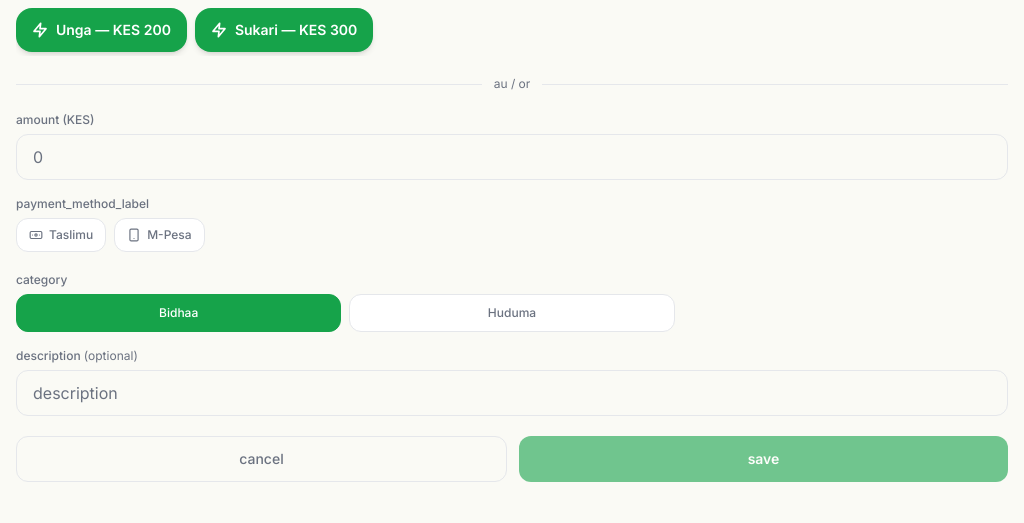
RecordSale › shows amount error for invalid input
Type "-50" into the number field with placeholder "0" at (512, 157), box [16,134,1008,180]
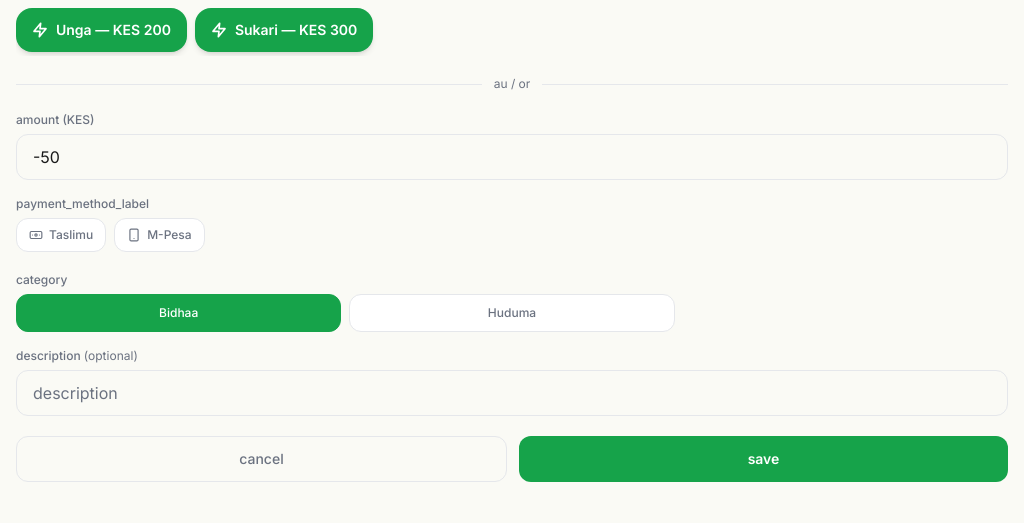
Leave the number field with placeholder "0", box [16,134,1008,180]
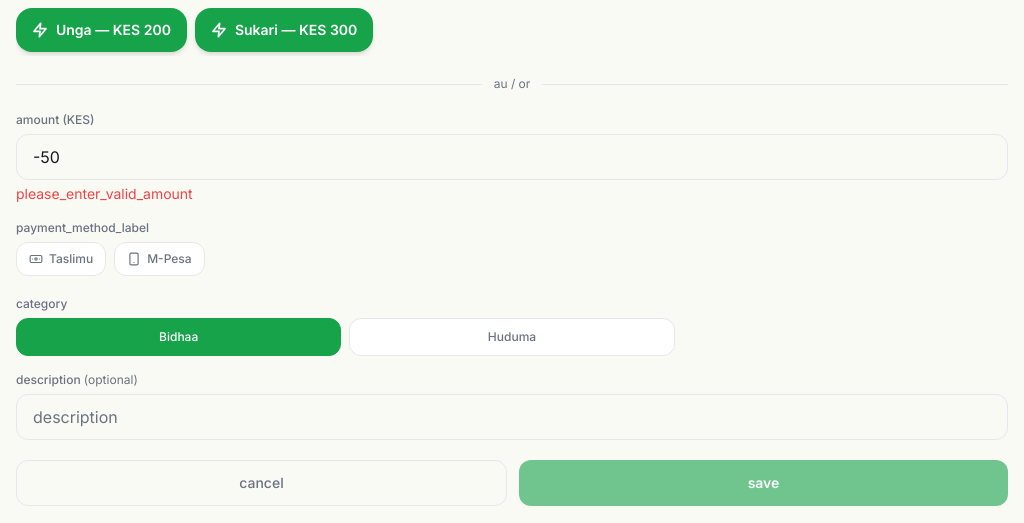
Now the text "please_enter_valid_amount" is shown, box [16,185,193,202]
